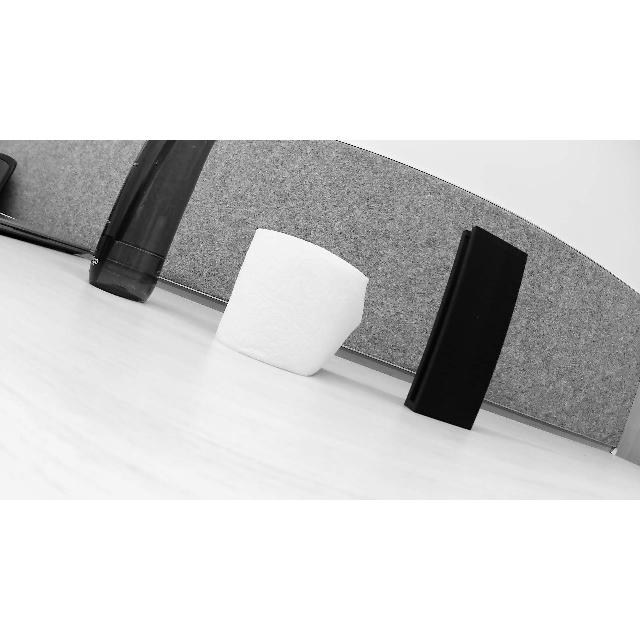targets: (398, 224, 538, 426), (89, 140, 225, 304), (216, 232, 370, 376)
